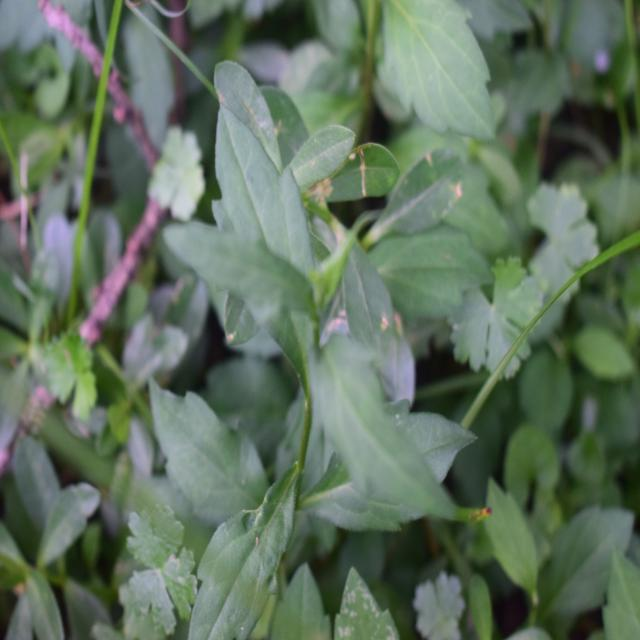Indian aster: (162, 127, 438, 548)
